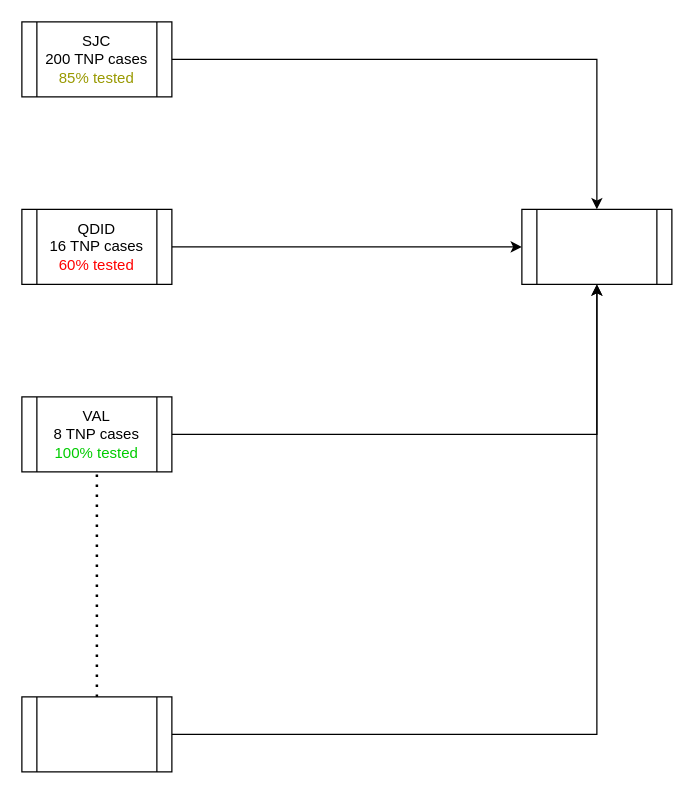
The diagram is 694 pixels wide and 794 high, and some of its shapes have lost their labels. The box of each missing label's shape, as (x1, y1, x2, y2) in pixels:
AMD: (521, 208, 672, 284)
Other sites ...: (21, 696, 172, 772)
